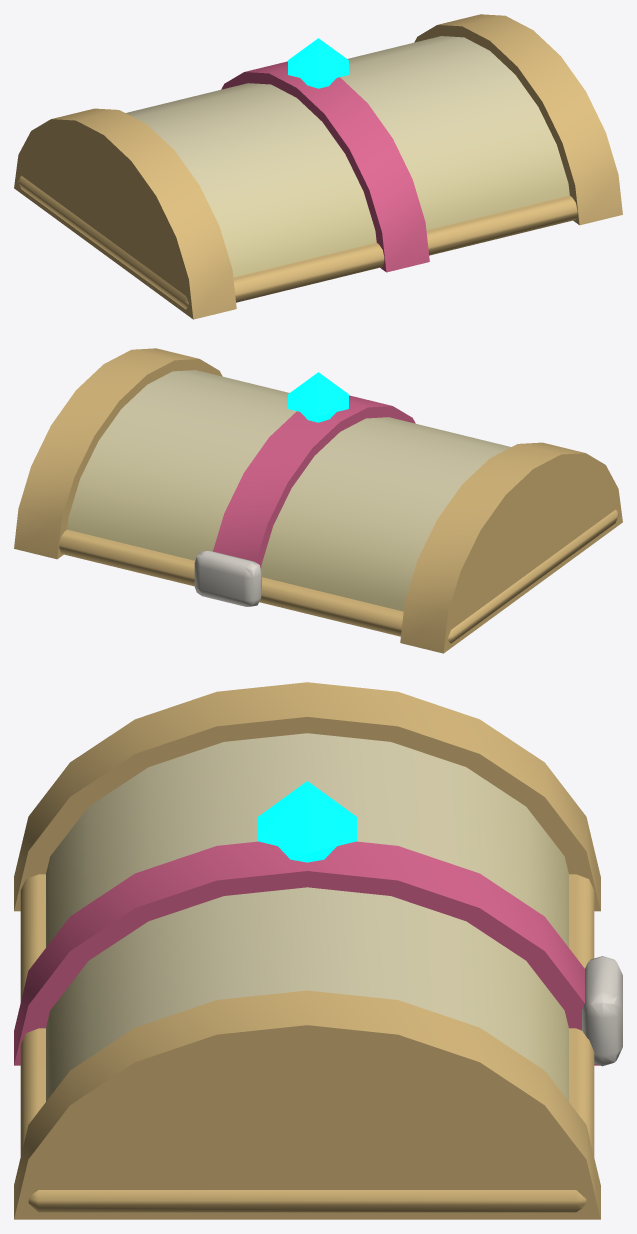
File: chestLid.glb
3 views of the same model, one above another, from view 1: azimuth 30°, elevation 25°; view 2: azimuth 150°, elevation 25°; view 3: azimuth 270°, elevation 25° (orthographic). The views are drawn at different scales.
Parts seen in each view (by area): view 1: Body, Glow_00E5FF; view 2: Body, Glow_00E5FF; view 3: Body, Glow_00E5FF.
Boxes of the visible parts, x1=… form: Body: x1=14, y1=14, x2=622, y2=319; Glow_00E5FF: x1=288, y1=38, x2=348, y2=88; Body: x1=14, y1=348, x2=622, y2=653; Glow_00E5FF: x1=288, y1=372, x2=348, y2=422; Body: x1=14, y1=682, x2=622, y2=1219; Glow_00E5FF: x1=257, y1=781, x2=356, y2=862.
Bounding box in the file's own units: 10 × 3.6 × 7.43.
